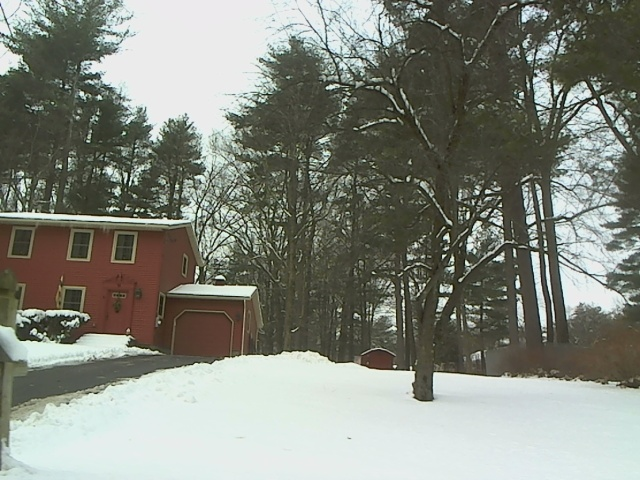Ploughed: (20, 345, 222, 394)
